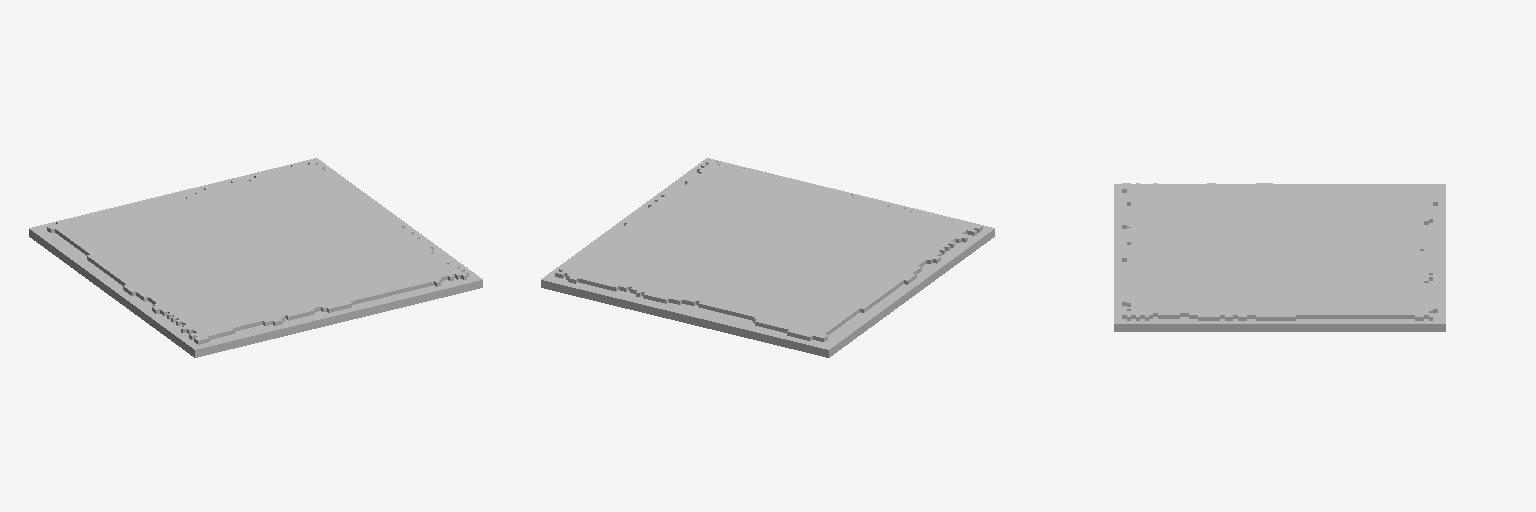
The model's file is Chunk_01_01.obj.
The picture shows the model from 3 angles: view 1: azimuth 30°, elevation 25°; view 2: azimuth 150°, elevation 25°; view 3: azimuth 270°, elevation 25°; orthographic projection.
Parts seen in each view (by area): view 1: Chunk_01_01; view 2: Chunk_01_01; view 3: Chunk_01_01.
Boxes of the visible parts, <box> form: Chunk_01_01: <box>29,158,482,357</box>; Chunk_01_01: <box>541,158,994,357</box>; Chunk_01_01: <box>1114,183,1445,331</box>.
Size of the model in its own units: 75 by 3 by 75.